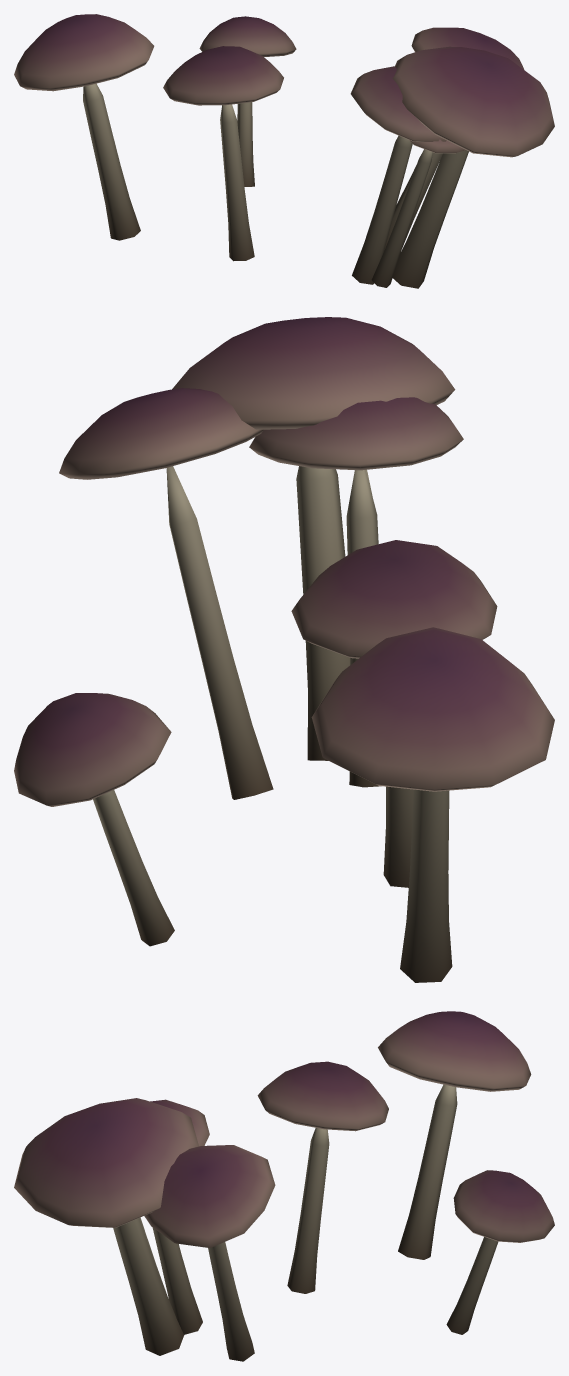
The model's file is mushroom-cluster.glb.
The picture shows the model from 3 angles, top to bottom: view 1: azimuth 30°, elevation 25°; view 2: azimuth 150°, elevation 25°; view 3: azimuth 270°, elevation 25°; orthographic projection. The views are drawn at different scales.
Visible parts, largest first — view 1: Mushroom_Cluster; view 2: Mushroom_Cluster; view 3: Mushroom_Cluster.
Boxes of the visible parts, x1,y1,x2,y2 form: Mushroom_Cluster: [14, 14, 554, 288]; Mushroom_Cluster: [14, 317, 554, 982]; Mushroom_Cluster: [14, 1011, 554, 1361].
Size of the model in its own units: 0.4 by 0.2275 by 0.4377.
